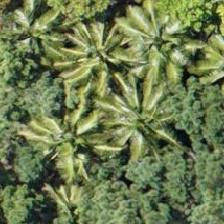coconut_tree: (49, 9, 139, 99), (99, 77, 189, 167), (18, 94, 108, 184), (109, 0, 199, 84), (26, 167, 116, 223)
